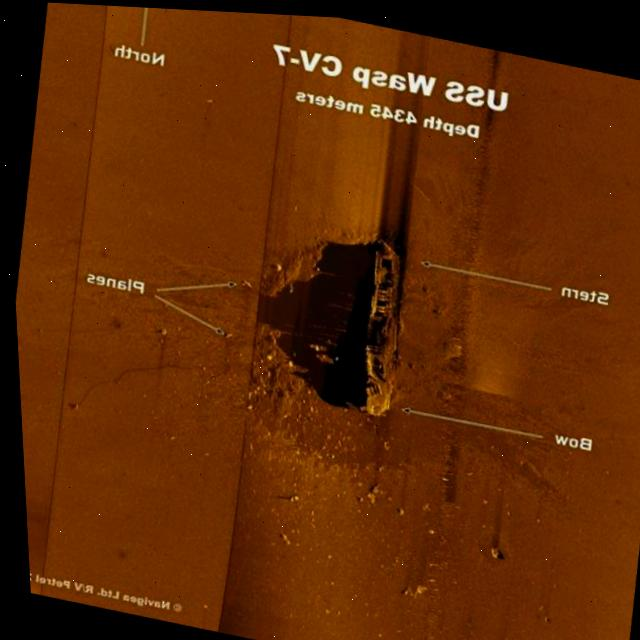shipwreck: (334, 226, 419, 420)
